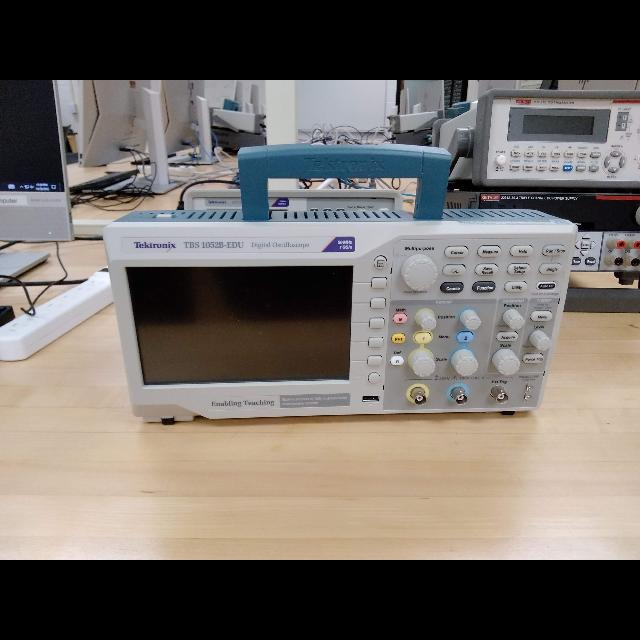Digital-Oscilloscope: (101, 223, 581, 419)
